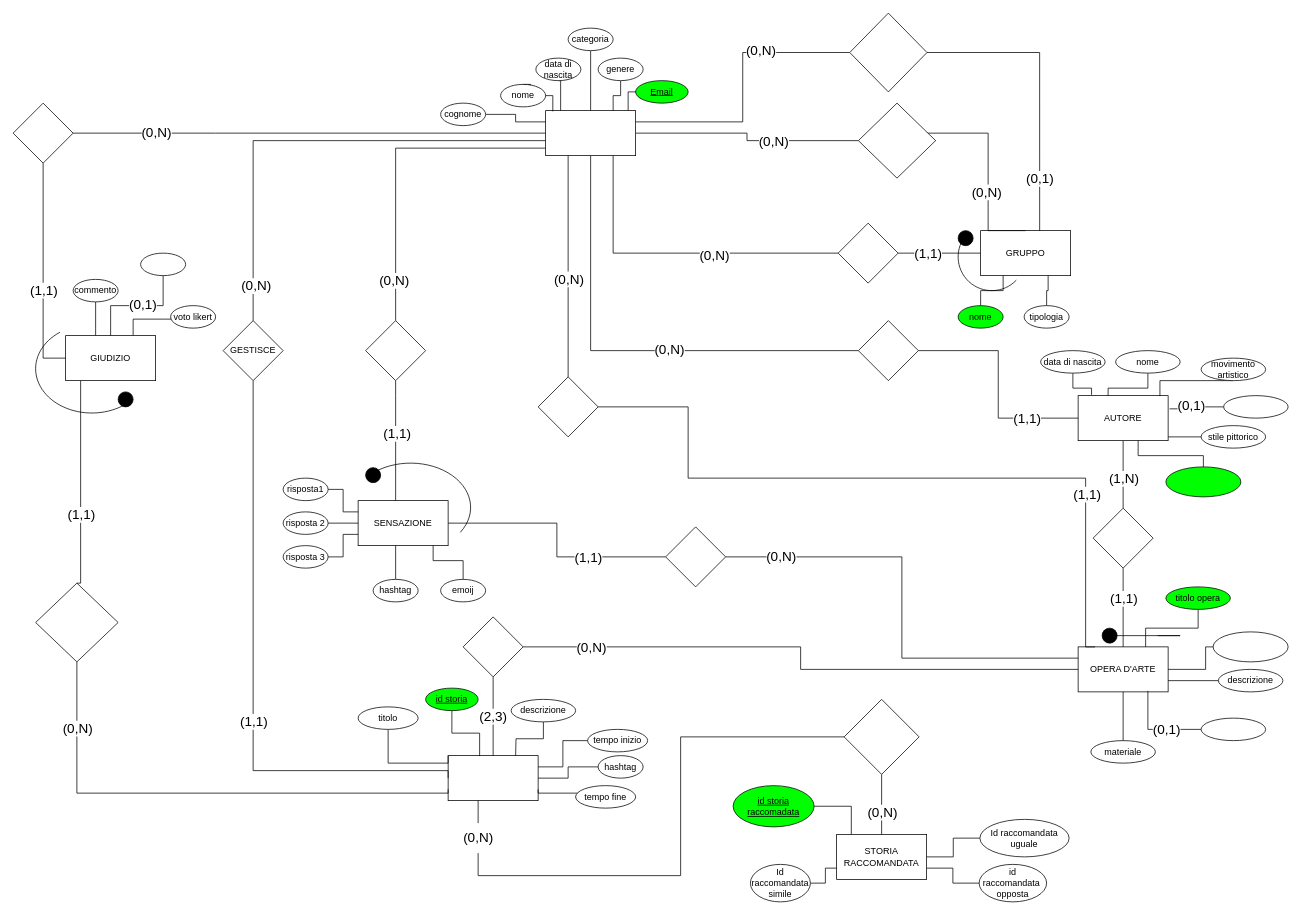
Image size: 1301x915. Some labels were removed from this diagram. Here are the shapes that lost their labels. From the top down, the centre of each, then its label:
At [888,52]: "SUPERVISIONA".
At [42,132]: "GIUDICA".
At [590,133]: "UTENTE".
At [897,140]: "PARTECIPA".
At [163,264]: "likeStoria".
At [867,252]: "CREA".
At [395,350]: "FORNISCE".
At [888,350]: "AGGIUNGE".
At [567,406]: "ARRICHISCE".
At [1255,406]: "data di morte".
At [1203,481]: "Codice autore".
At [695,556]: "GENERA".
At [1122,537]: "REALIZZA".
At [76,622]: "CORRISPONDE".
At [492,646]: "CONTIENE".
At [1250,646]: "anno di realizzazione".
At [881,736]: "SUGGERISCE".
At [1233,729]: "online".
At [492,778]: "STORIA".
